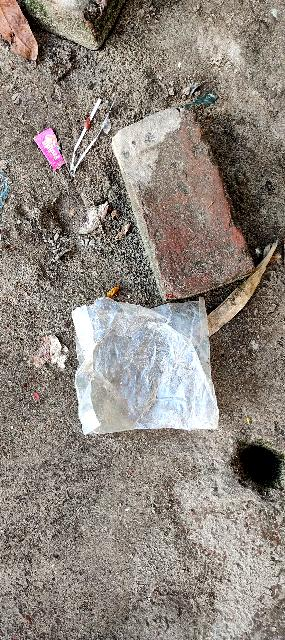polythene: (66, 289, 229, 442)
